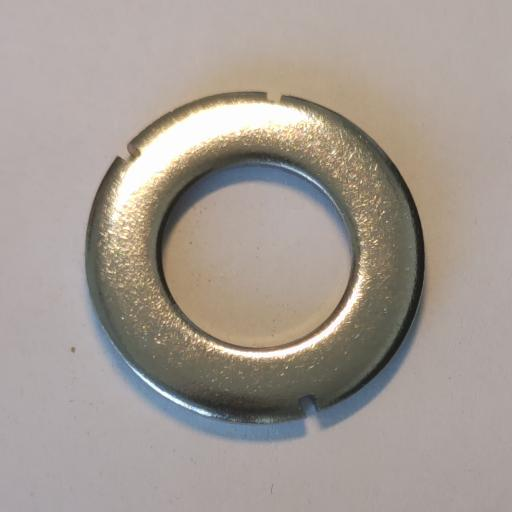burr: (299, 393, 319, 419), (118, 144, 142, 164), (266, 92, 282, 104)
